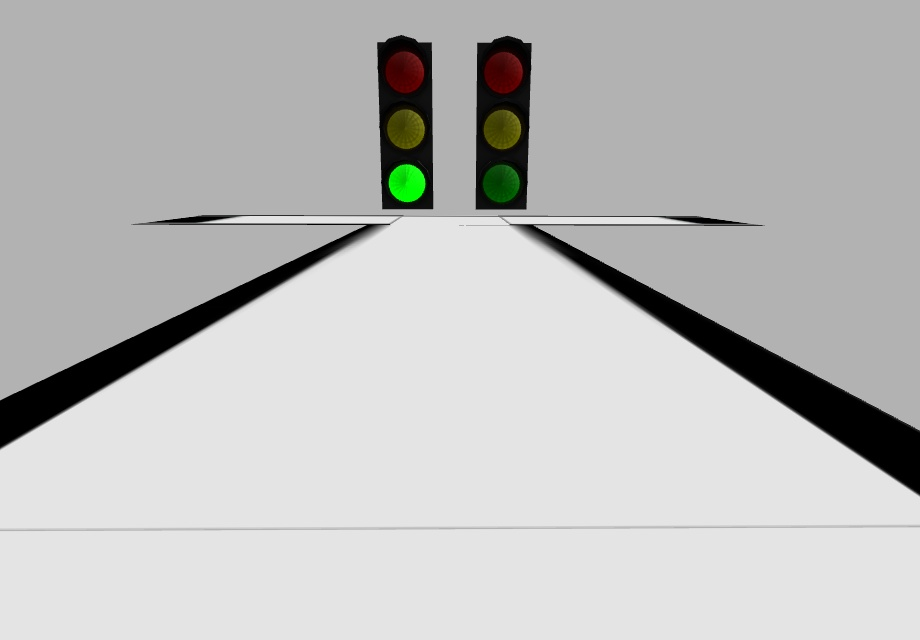green_off: (477, 159, 528, 208)
green_on: (382, 156, 432, 209)
